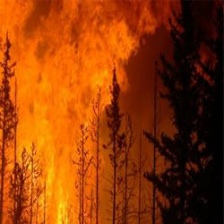fire: (3, 10, 125, 223)
